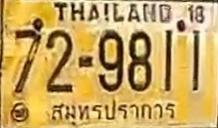1: (164, 29, 172, 91), (192, 31, 199, 91)
2: (45, 30, 72, 92)
7: (13, 28, 42, 93)
8: (127, 30, 151, 91)
9: (98, 29, 123, 91)
SPK: (49, 98, 178, 127)
